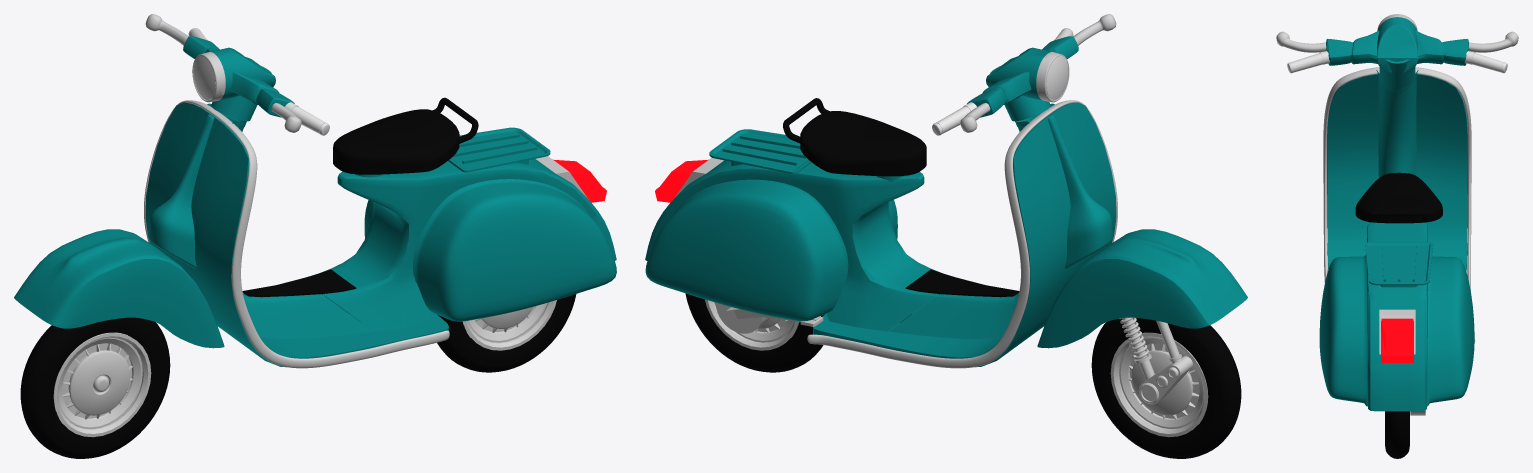
The model's file is vespabiru.fbx.
The picture shows the model from 3 angles, left to right: view 1: azimuth 30°, elevation 25°; view 2: azimuth 150°, elevation 25°; view 3: azimuth 270°, elevation 25°; orthographic projection. The views are drawn at different scales.
Visible parts, largest first — view 1: BodyTengah.001, Cube.005, bodyDepan.001, SpakborDepan.001, TrDpn.001, vespvelg.002, Plane.004, Plane.002, Steering.001, TrBlk.001, BodyDepanTengah.001, vespvelg.001 (+5 smaller); view 2: BodyTengah.001, Cube.011, bodyDepan.001, SpakborDepan.001, TrDpn.001, Plane.004, vespvelg.002, Plane.002, Steering.001, BodyDepanTengah.001, TrBlk.001, wheel.f.steering.001 (+7 smaller); view 3: bodyDepan.001, BodyTengah.001, Cube.005, Cube.011, Steering.001, Plane.004, Plane.002, LampuBlk, TrBlk.001, Rem.001, Stang.001, Cube.013 (+1 smaller).
Part boxes in pixels (x1=…): BodyTengah.001: x1=207, y1=103, x2=616, y2=338; Cube.005: x1=413, y1=179, x2=616, y2=321; bodyDepan.001: x1=145, y1=102, x2=448, y2=367; SpakborDepan.001: x1=14, y1=229, x2=224, y2=348; TrDpn.001: x1=20, y1=317, x2=170, y2=458; vespvelg.002: x1=53, y1=332, x2=151, y2=437; Plane.004: x1=333, y1=109, x2=459, y2=174; Plane.002: x1=144, y1=100, x2=449, y2=368; Steering.001: x1=183, y1=36, x2=294, y2=121; TrBlk.001: x1=437, y1=294, x2=576, y2=372; BodyDepanTengah.001: x1=149, y1=114, x2=214, y2=268; vespvelg.001: x1=463, y1=300, x2=556, y2=350; BodyTengah.001: x1=645, y1=103, x2=1054, y2=338; Cube.011: x1=645, y1=179, x2=848, y2=321; bodyDepan.001: x1=813, y1=102, x2=1116, y2=367; SpakborDepan.001: x1=1037, y1=229, x2=1247, y2=348; TrDpn.001: x1=1091, y1=318, x2=1241, y2=458; Plane.004: x1=800, y1=111, x2=926, y2=176; vespvelg.002: x1=1110, y1=332, x2=1208, y2=437; Plane.002: x1=807, y1=100, x2=1117, y2=368; Steering.001: x1=967, y1=36, x2=1078, y2=121; BodyDepanTengah.001: x1=1047, y1=114, x2=1112, y2=268; TrBlk.001: x1=685, y1=293, x2=824, y2=372; wheel.f.steering.001: x1=1119, y1=317, x2=1192, y2=404; bodyDepan.001: x1=1327, y1=74, x2=1467, y2=271; BodyTengah.001: x1=1365, y1=70, x2=1433, y2=411; Cube.005: x1=1319, y1=255, x2=1367, y2=406; Cube.011: x1=1427, y1=256, x2=1474, y2=405; Steering.001: x1=1326, y1=14, x2=1468, y2=88; Plane.004: x1=1355, y1=172, x2=1442, y2=223; Plane.002: x1=1323, y1=67, x2=1475, y2=343; LampuBlk: x1=1381, y1=318, x2=1413, y2=362; TrBlk.001: x1=1385, y1=411, x2=1409, y2=458; Rem.001: x1=1276, y1=31, x2=1518, y2=52; Stang.001: x1=1287, y1=51, x2=1507, y2=73; Cube.013: x1=1379, y1=309, x2=1415, y2=354.
Bounding box in the file's own units: 192 × 123 × 84.45.
